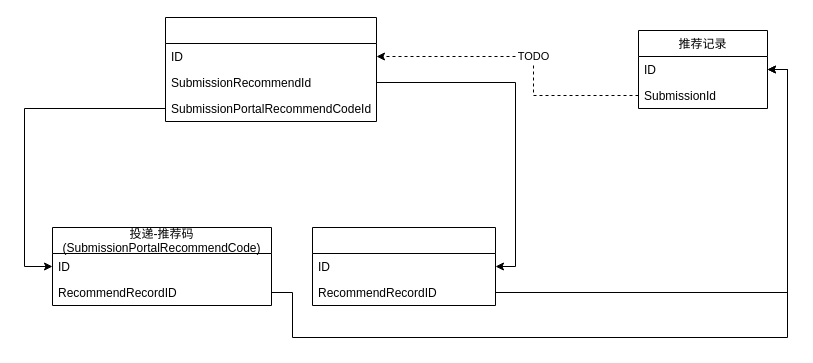
Image size: 813x363. Some labels were removed from this diagram. The box of each missing label's shape, as (x1, y1, x2, y2) in pixels:
投递-推荐 (SubmissionRecommend): (312, 226, 496, 306)
投递-通用（SubmissionBasic）: (164, 16, 376, 122)
